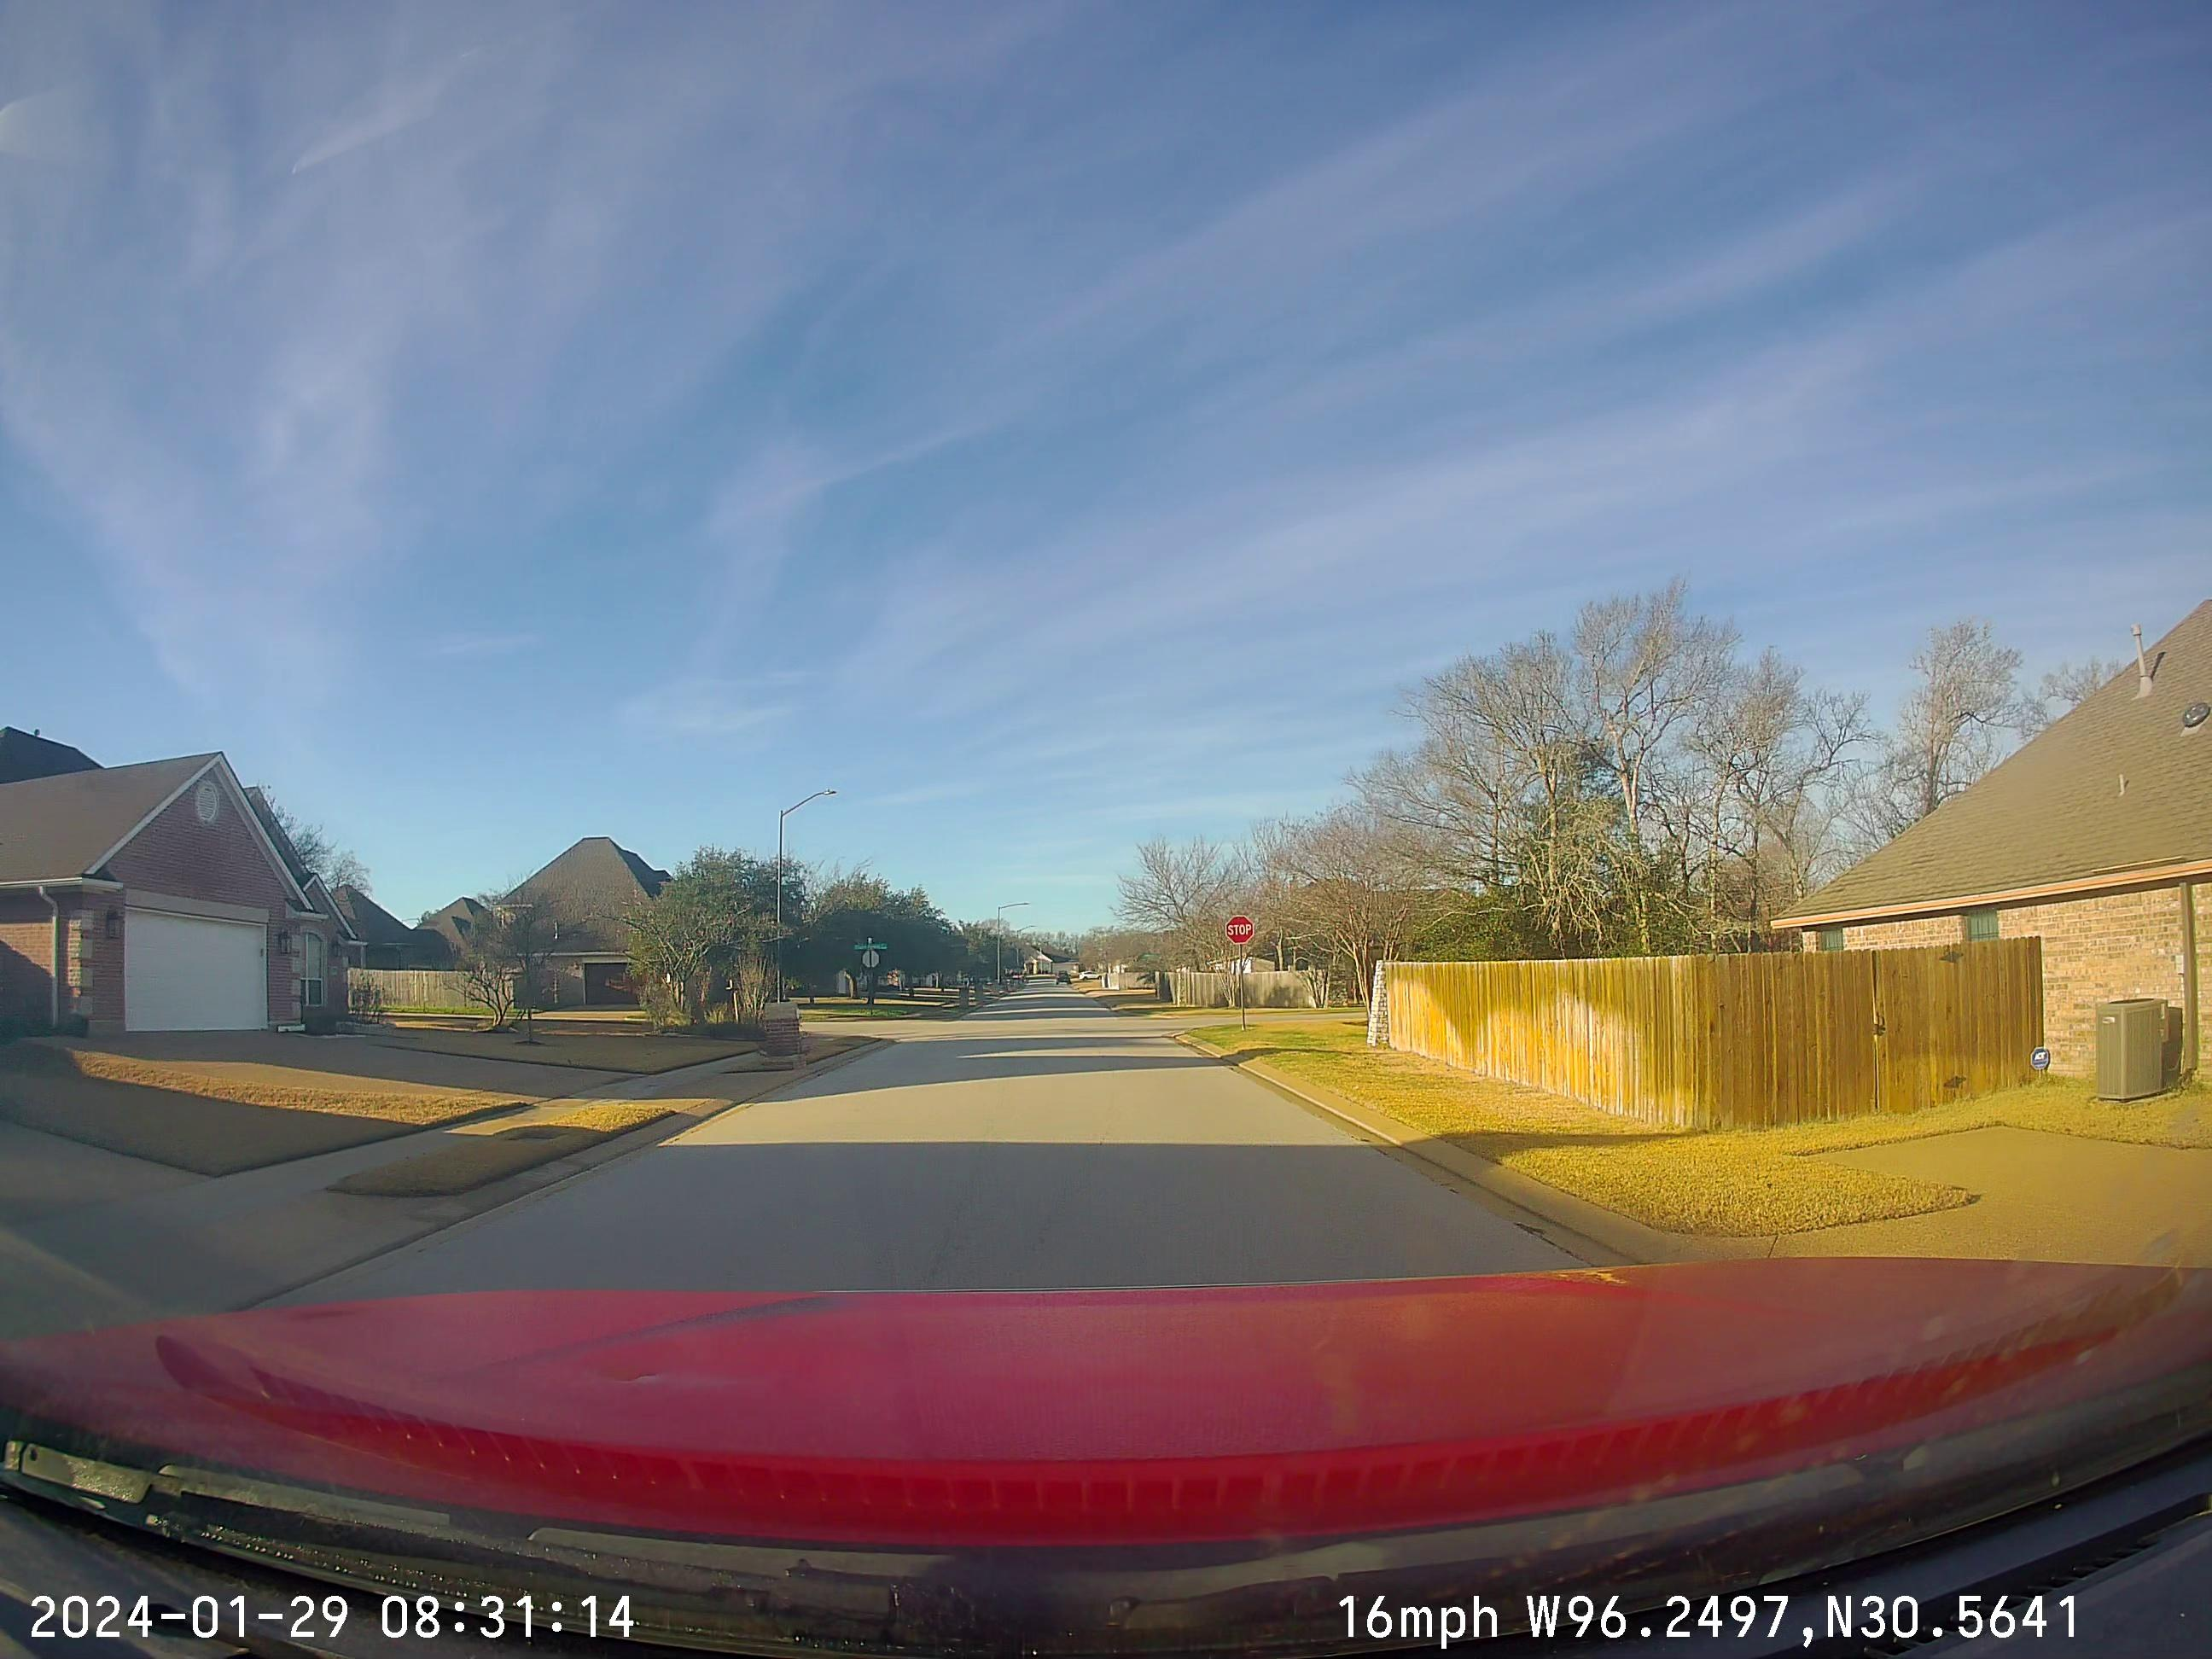car: (0, 993, 2212, 1654)
truck: (0, 993, 2212, 1654)
